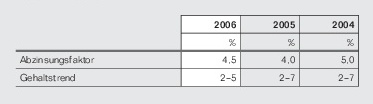table: (0, 0, 373, 104)
